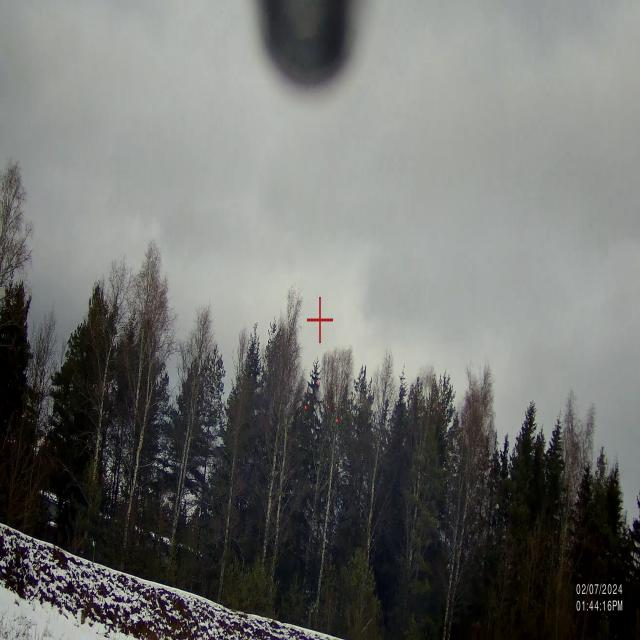broken: (293, 371, 351, 431)
